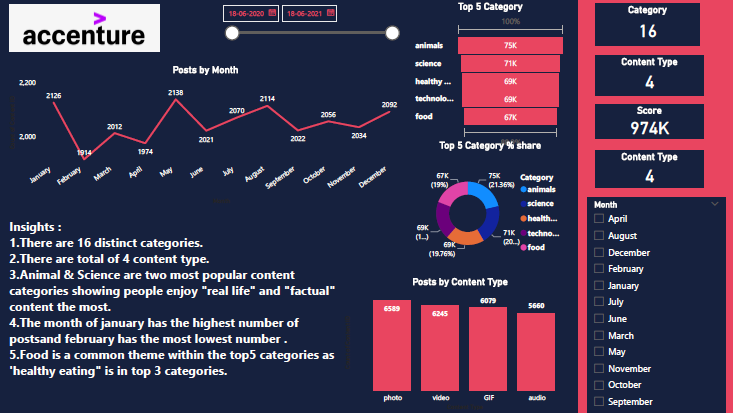

Layout of this report page (visuals, bound fields, positions):
{"tool":"powerbi","page":{"name":"Page 1","canvas":[1280,720],"ordinal":0},"visuals":[{"type":"image","box":[10.1,0,272.1,97.4],"z":0},{"type":"shape","box":[1007.9,0,272.1,720.6],"z":1},{"type":"card","title":"Category","fields":{"Values":["Count(Task 3_Final Content Data set (1).Category)"]},"box":[1038.1,6.7,183.1,72.2],"z":2},{"type":"card","title":"Content Type","fields":{"Values":["Count(Task 3_Final Content Data set (1).Content Type)"]},"box":[1038.1,97.4,189.8,68.9],"z":3},{"type":"card","title":"Score","fields":{"Values":["Sum(Task 3_Final Content Data set (1).Score)"]},"box":[1038.1,183.1,189.8,60.5],"z":4},{"type":"card","title":"Content Type","fields":{"Values":["Count(Task 3_Final Content Data set (1).Content Type)"]},"box":[1038.1,263.7,189.8,63.8],"z":5},{"type":"funnel","title":"Top 5 Category","fields":{"Category":["Task 3_Final Content Data set (1).Category"],"Y":["Sum(Task 3_Final Content Data set (1).Score)"]},"box":[719,1.7,272.1,262],"z":6},{"type":"donutChart","title":"Top 5 Category % share","fields":{"Category":["Task 3_Final Content Data set (1).Category"],"Y":["Sum(Task 3_Final Content Data set (1).Score)"]},"box":[719,243.6,272.1,238.5],"z":7},{"type":"columnChart","title":"Posts by Content Type","fields":{"Category":["Task 3_Final Content Data set (1).Content Type"],"Y":["CountNonNull(Task 3_Final Content Data set (1).Content ID)"]},"box":[594.6,482.1,413.2,238.5],"z":8},{"type":"lineChart","title":"Posts by Month","fields":{"Category":["Task 3_Final Content Data set (1).Datetime.Variation.Date Hierarchy.Month"],"Y":["CountNonNull(Task 3_Final Content Data set (1).Content ID)"]},"box":[10.1,112.5,695.4,250.3],"z":9},{"type":"slicer","fields":{"Values":["Task 3_Final Content Data set (1).Datetime"]},"box":[376.3,0,329.2,79],"z":10},{"type":"slicer","fields":{"Values":["Task 3_Final Content Data set (1).month"]},"box":[1023,344.4,241.9,376.3],"z":11},{"type":"textbox","box":[10.1,376.3,584.6,344.4],"z":12}]}

Visuals, with their boxes in screenshot pixels (x1, y1, x2, y2), scaled from the page's 1280x720 canvas onto the 733x413 screenshot:
image: left=6, top=0, right=162, bottom=56
shape: left=577, top=0, right=732, bottom=412
"Category" card: left=594, top=4, right=699, bottom=45
"Content Type" card: left=594, top=56, right=703, bottom=95
"Score" card: left=594, top=105, right=703, bottom=140
"Content Type" card: left=594, top=151, right=703, bottom=188
"Top 5 Category" funnel: left=412, top=1, right=568, bottom=151
"Top 5 Category % share" donutChart: left=412, top=140, right=568, bottom=277
"Posts by Content Type" columnChart: left=341, top=277, right=577, bottom=412
"Posts by Month" lineChart: left=6, top=65, right=404, bottom=208
slicer - Task 3_Final Content Data set (1).Datetime: left=215, top=0, right=404, bottom=45
slicer - Task 3_Final Content Data set (1).month: left=586, top=198, right=724, bottom=412
textbox: left=6, top=216, right=341, bottom=412
